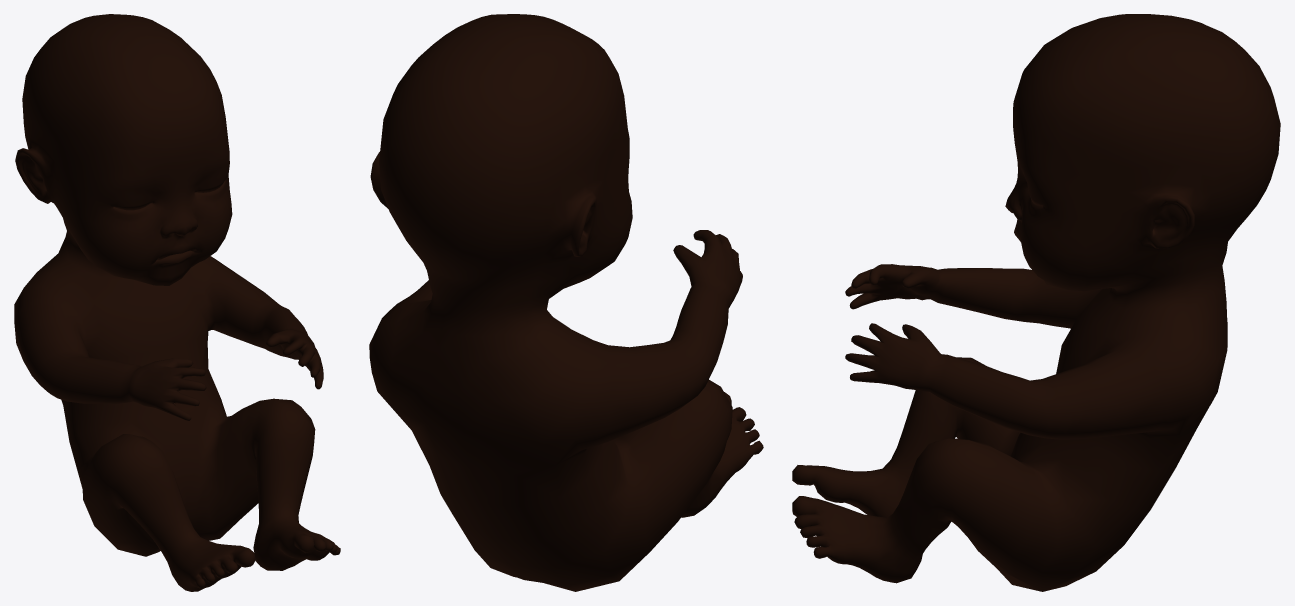
File: baby.glb
3 renders of one model, left to right at view 1: azimuth 30°, elevation 25°; view 2: azimuth 150°, elevation 25°; view 3: azimuth 270°, elevation 25°, orthographic. The views are drawn at different scales.
Parts seen in each view (by area): view 1: Baby_ocl_SG_0; view 2: Baby_ocl_SG_0; view 3: Baby_ocl_SG_0.
Boxes of the visible parts, x1,y1,x2,y2 form: Baby_ocl_SG_0: (14, 14, 340, 591); Baby_ocl_SG_0: (369, 14, 763, 591); Baby_ocl_SG_0: (792, 14, 1280, 591).
Size of the model in its own units: 57.74 by 110 by 88.35.
